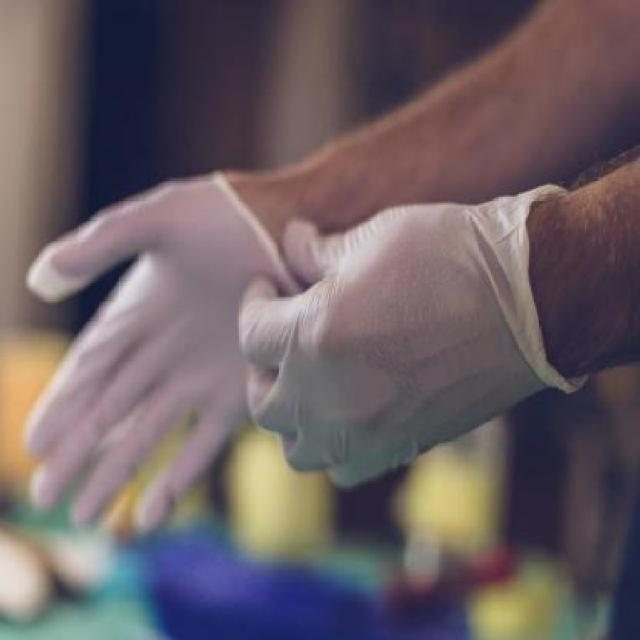gloved_hand: (232, 168, 566, 522), (22, 176, 286, 575)
